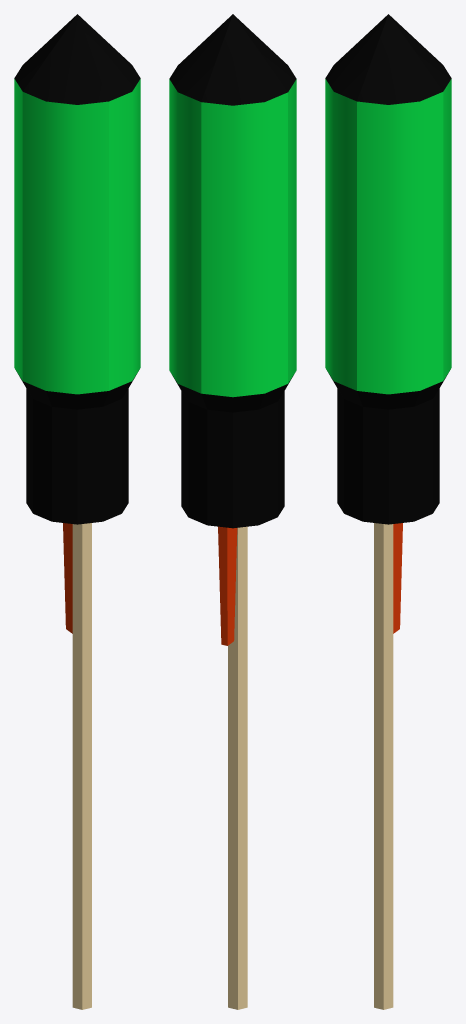
File: Firework.fbx
3 views of the same model, side by side, from view 1: azimuth 30°, elevation 25°; view 2: azimuth 150°, elevation 25°; view 3: azimuth 330°, elevation 25° (orthographic).
Visible parts, largest first — view 1: firework; view 2: firework; view 3: firework.
Boxes of the visible parts, bbox=[...] form: firework: bbox=[14, 14, 140, 1009]; firework: bbox=[169, 14, 296, 1009]; firework: bbox=[325, 14, 451, 1009].
Size of the model in its own units: 5 by 43.1 by 5.
